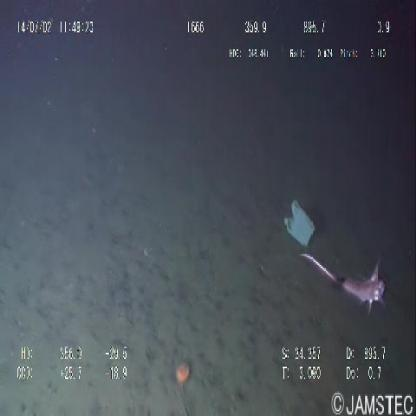Bio: (300, 248, 386, 319)
Rác: (277, 191, 318, 250)
